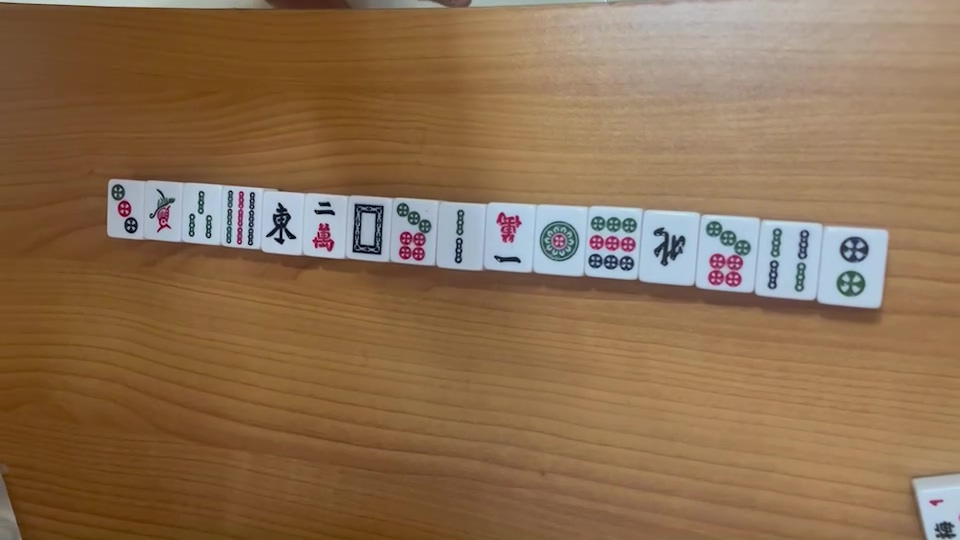b-1: (146, 187, 178, 235)
b-2: (830, 231, 872, 300), (442, 207, 474, 264)
b-3: (183, 190, 216, 243)
b-4: (760, 227, 812, 292)
b-9: (221, 187, 258, 246)
c-1: (485, 211, 524, 265)
c-2: (309, 199, 338, 256)
d-1: (536, 219, 581, 264)
d-3: (110, 182, 141, 236)
d-7: (704, 218, 753, 287), (395, 202, 434, 262)
d-9: (588, 213, 638, 274)
honors-east: (263, 200, 297, 246)
honors-north: (647, 223, 690, 269)
honors-white: (351, 200, 386, 259)
